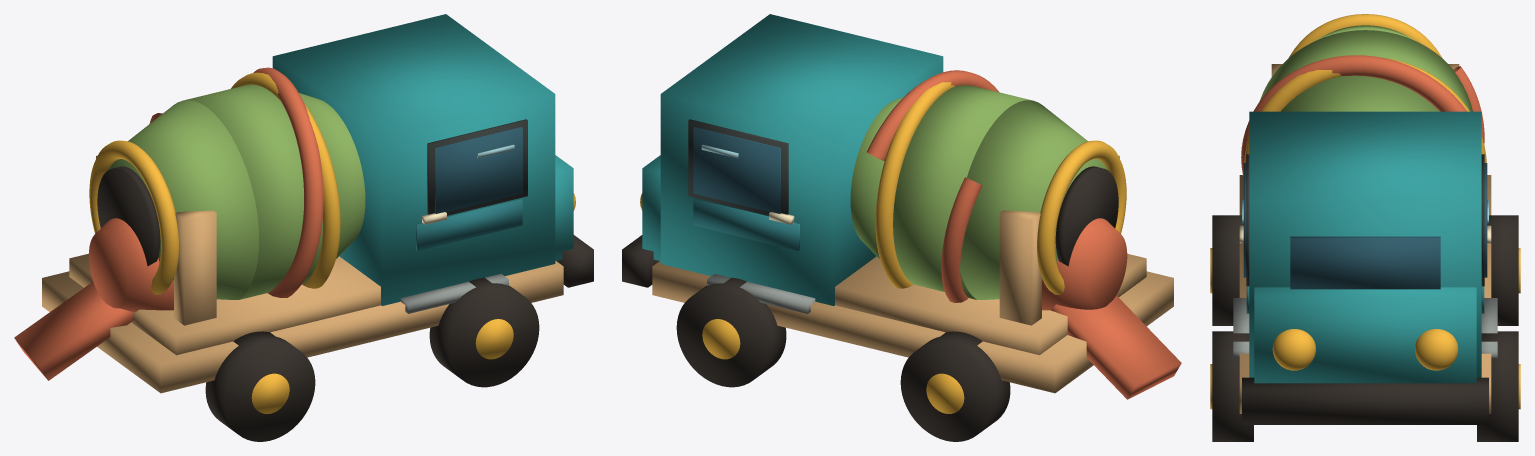
The model's file is fleet-mixer.glb.
3 views of the same model, side by side, from view 1: azimuth 30°, elevation 25°; view 2: azimuth 150°, elevation 25°; view 3: azimuth 270°, elevation 25° (orthographic). The views are drawn at different scales.
Visible parts, largest first — view 1: Mixer_Cab, Mixer_Drum_Rear_Cone, Mixer_Chassis, Mixer_Drum_Belly, Mixer_Base_Frame, Mixer_Wheel_3, Mixer_Wheel_1, Mixer_Left_Window, Mixer_Chute, Mixer_Funnel, Mixer_Spiral_Rib, Mixer_Rear_Frame_Left (+11 smaller); view 2: Mixer_Cab, Mixer_Drum_Belly, Mixer_Chassis, Mixer_Drum_Rear_Cone, Mixer_Base_Frame, Mixer_Wheel_4, Mixer_Wheel_2, Mixer_Chute, Mixer_Right_Window, Mixer_Funnel, Mixer_Spiral_Rib, Mixer_Rear_Frame_Right (+11 smaller); view 3: Mixer_Cab, Mixer_Hood, Mixer_Bumper, Mixer_Front_Window, Mixer_Drum_Belly, Mixer_Spiral_Rib, Mixer_Drum_Front_Cone, Mixer_Wheel_1, Mixer_Wheel_2, Mixer_Wheel_3, Mixer_Wheel_4, Mixer_Chassis (+11 smaller).
Boxes of the visible parts, x1,y1,x2,y2 form: Mixer_Cab: (272, 14, 555, 305); Mixer_Drum_Rear_Cone: (108, 100, 258, 299); Mixer_Chassis: (42, 261, 563, 393); Mixer_Drum_Belly: (183, 84, 322, 299); Mixer_Base_Frame: (69, 253, 380, 355); Mixer_Wheel_3: (205, 331, 315, 441); Mixer_Wheel_1: (429, 277, 539, 387); Mixer_Left_Window: (435, 127, 522, 213); Mixer_Chute: (14, 281, 133, 380); Mixer_Funnel: (88, 218, 173, 312); Mixer_Spiral_Rib: (149, 67, 323, 297); Mixer_Rear_Frame_Left: (174, 210, 216, 325); Mixer_Cab: (660, 14, 943, 305); Mixer_Drum_Belly: (893, 85, 1032, 299); Mixer_Chassis: (652, 261, 1173, 393); Mixer_Drum_Rear_Cone: (960, 100, 1107, 299); Mixer_Base_Frame: (835, 253, 1146, 355); Mixer_Wheel_4: (900, 331, 1010, 441); Mixer_Wheel_2: (676, 277, 786, 387); Mixer_Chute: (1051, 295, 1181, 399); Mixer_Right_Window: (693, 127, 780, 213); Mixer_Funnel: (1042, 218, 1127, 310); Mixer_Spiral_Rib: (867, 70, 998, 302); Mixer_Rear_Frame_Right: (999, 210, 1041, 325); Mixer_Cab: (1249, 111, 1481, 377); Mixer_Hood: (1254, 287, 1476, 383); Mixer_Bumper: (1242, 377, 1488, 424); Mixer_Front_Window: (1290, 236, 1440, 289); Mixer_Drum_Belly: (1260, 30, 1472, 111); Mixer_Spiral_Rib: (1241, 55, 1484, 176); Mixer_Drum_Front_Cone: (1281, 75, 1439, 111); Mixer_Wheel_1: (1212, 331, 1253, 441); Mixer_Wheel_2: (1477, 331, 1518, 441); Mixer_Wheel_3: (1212, 215, 1243, 325); Mixer_Wheel_4: (1487, 215, 1518, 325); Mixer_Chassis: (1239, 175, 1491, 413).
Size of the model in its own units: 6.25 by 3.44 by 3.14.
